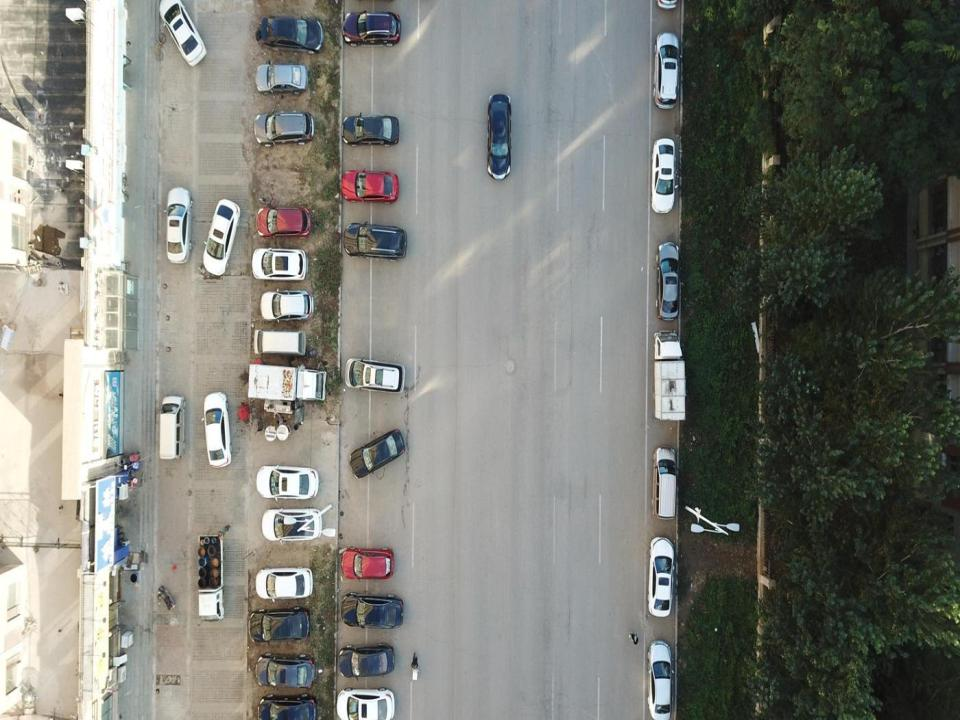car: (159, 0, 207, 69), (202, 197, 242, 274), (348, 427, 406, 478), (343, 219, 406, 260), (254, 650, 317, 690), (254, 464, 320, 502), (341, 589, 402, 629), (202, 390, 232, 469), (344, 356, 405, 394), (249, 606, 308, 644), (646, 642, 675, 719), (165, 187, 194, 264), (486, 94, 512, 179), (256, 16, 322, 49), (332, 685, 396, 719), (648, 534, 673, 620), (338, 643, 394, 680), (254, 110, 313, 145), (260, 510, 319, 545), (656, 242, 682, 321), (342, 168, 398, 204), (343, 8, 399, 44), (653, 32, 679, 109), (342, 112, 398, 147), (255, 206, 311, 240), (342, 546, 394, 582), (254, 568, 312, 600), (652, 138, 676, 214), (259, 287, 314, 320), (255, 61, 310, 93), (252, 246, 307, 278), (257, 693, 318, 719)
truck: (246, 361, 327, 402), (198, 533, 224, 622)
van: (157, 394, 183, 463), (252, 331, 308, 358)
